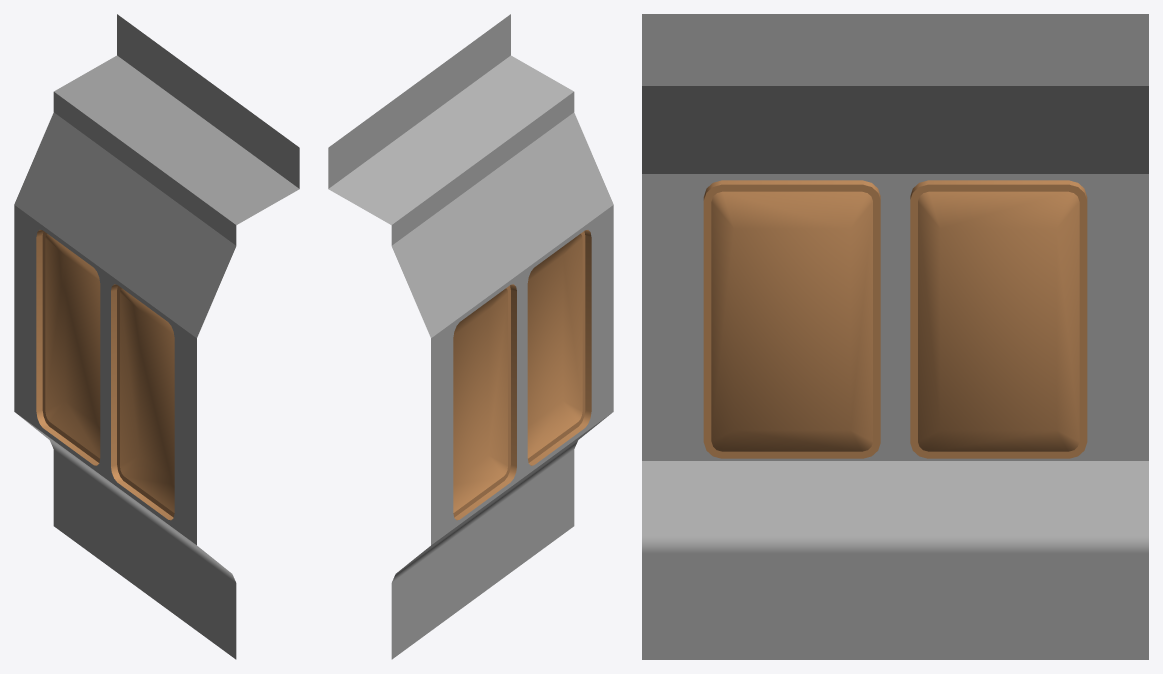
The model's file is wall.fbx.
3 views of the same model, side by side, from view 1: azimuth 30°, elevation 25°; view 2: azimuth 150°, elevation 25°; view 3: azimuth 270°, elevation 25° (orthographic). The views are drawn at different scales.
Visible parts, largest first — view 1: Wall; view 2: Wall; view 3: Wall.
Boxes of the visible parts, left/top/right/bottom form: Wall: left=14, top=14, right=299, bottom=659; Wall: left=328, top=14, right=613, bottom=659; Wall: left=642, top=14, right=1148, bottom=659.
Bounding box in the file's own units: 65 × 200 × 300.
